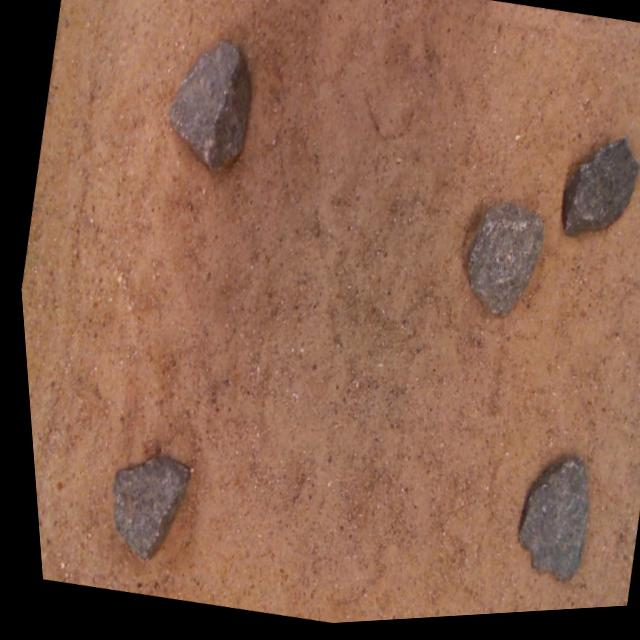rock: (167, 46, 248, 174), (509, 466, 579, 587), (463, 210, 539, 321), (105, 458, 181, 560), (558, 148, 635, 244)
